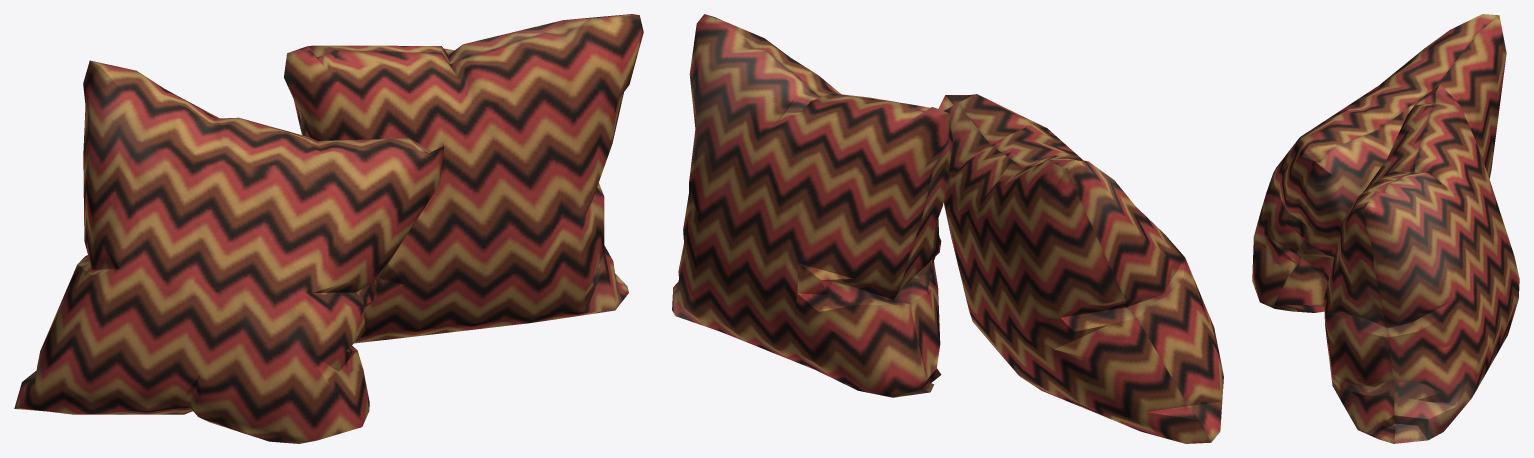
Rendered from throw_pillows_01.fbx.
3 views of the same model, side by side, from view 1: azimuth 30°, elevation 25°; view 2: azimuth 150°, elevation 25°; view 3: azimuth 270°, elevation 25° (orthographic). The views are drawn at different scales.
Parts seen in each view (by area): view 1: throw_pillows_01; view 2: throw_pillows_01; view 3: throw_pillows_01.
Boxes of the visible parts, bbox=[...] form: throw_pillows_01: bbox=[14, 14, 643, 443]; throw_pillows_01: bbox=[672, 14, 1223, 443]; throw_pillows_01: bbox=[1252, 14, 1519, 443].
Bounding box in the file's own units: 0.9374 × 0.4541 × 0.4505.
